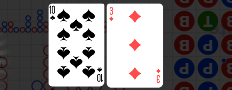10C: (96, 67, 104, 83)
3D: (156, 68, 162, 85)
